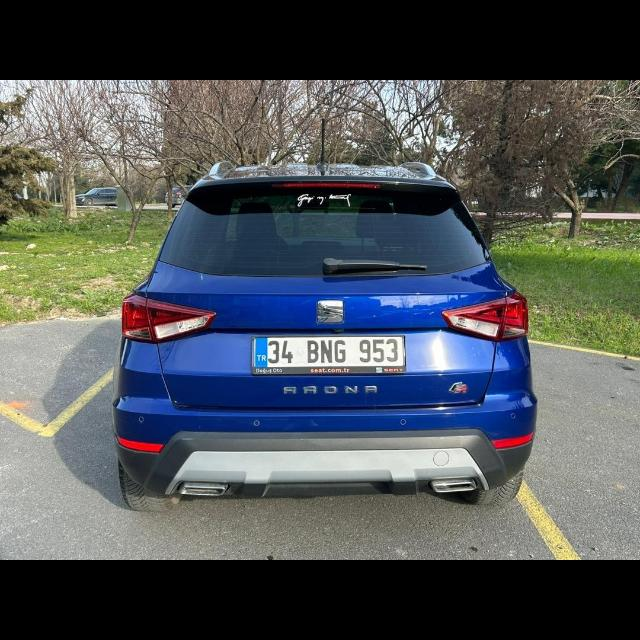Plaka: (255, 337, 403, 367)
